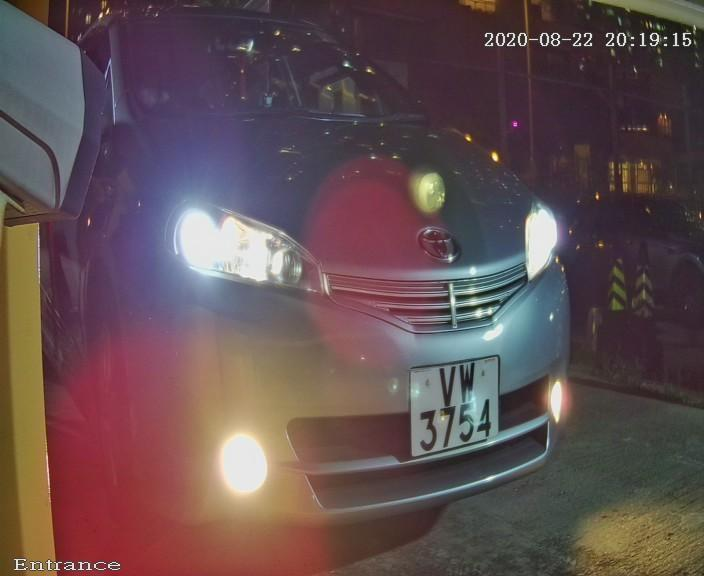License Plate: (397, 340, 513, 474)
